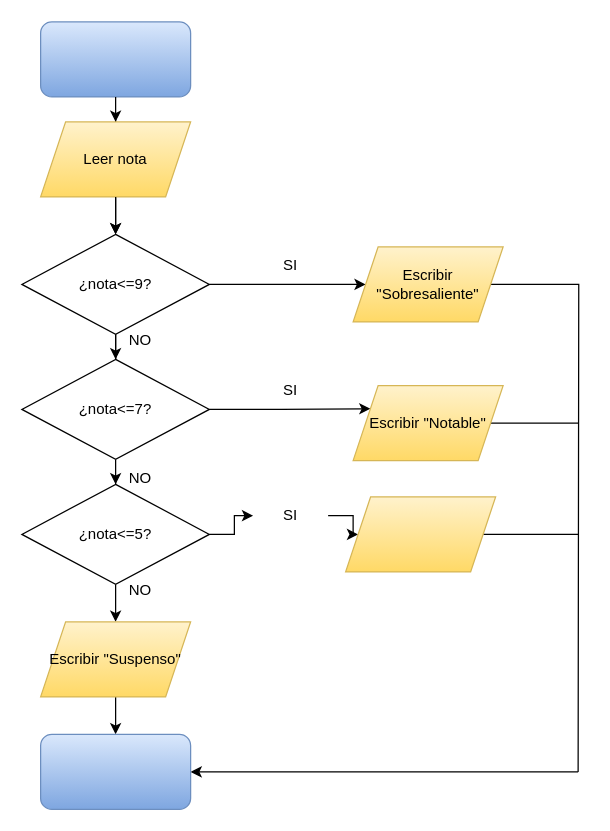
The diagram is 610 pixels wide and 831 high, and some of its shapes have lost their labels. The box of each missing label's shape, as (x1, y1, x2, y2) in pixels:
Escribir "Aprobado": (344, 496, 496, 572)
FIN: (39, 733, 191, 809)
INICIO: (39, 21, 191, 97)
